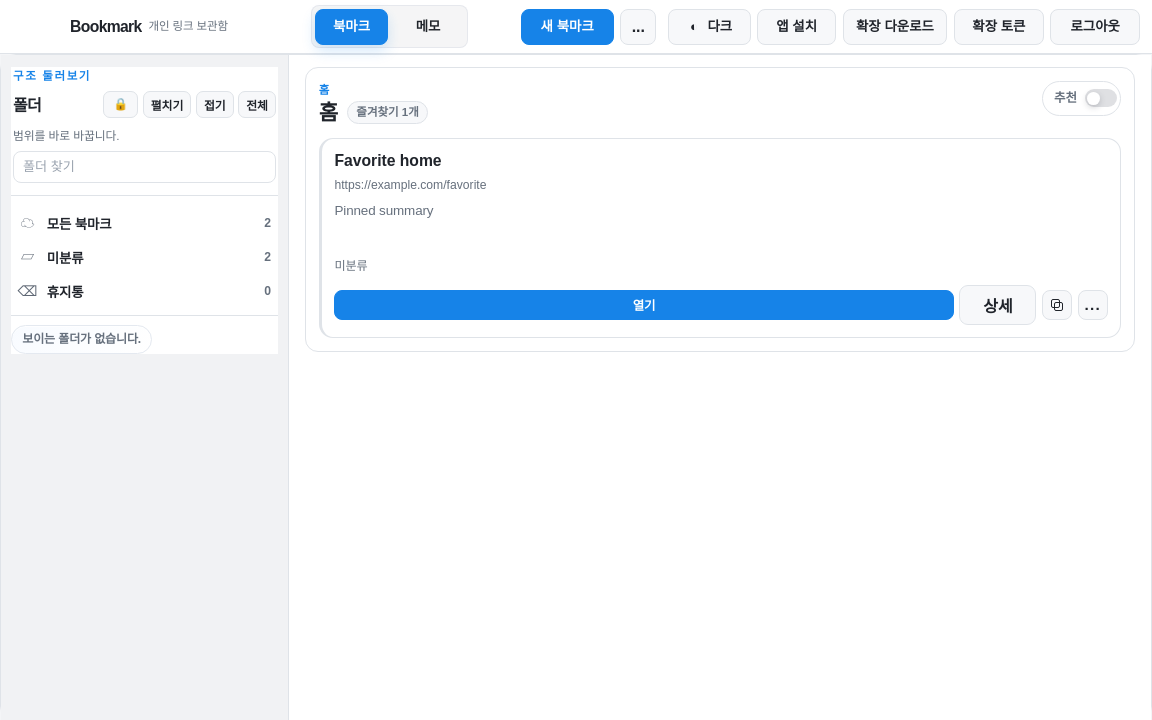
bookmark dashboard › opens on a home page with favorite bookmark cards and returns home from the brand
Expected: the heading "홈" is shown, [319,101,337,124]
Expected: the text "Favorite home" is shown, [334,152,441,169]
Click the button with aria-label "모든 북마크 보기".
click(79, 225)  # box [11,207,278,239]
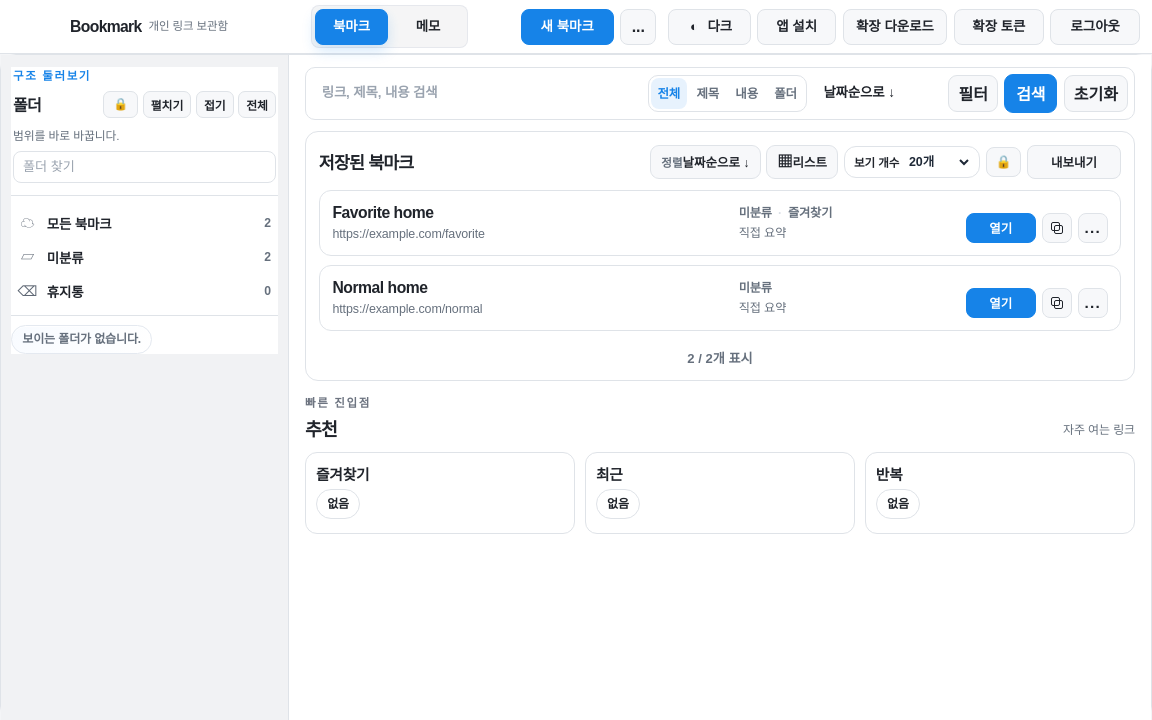
Now the element "home-page" is gone
Click the button with aria-label "홈으로 이동".
click(156, 27)  # box [12,19,300,34]
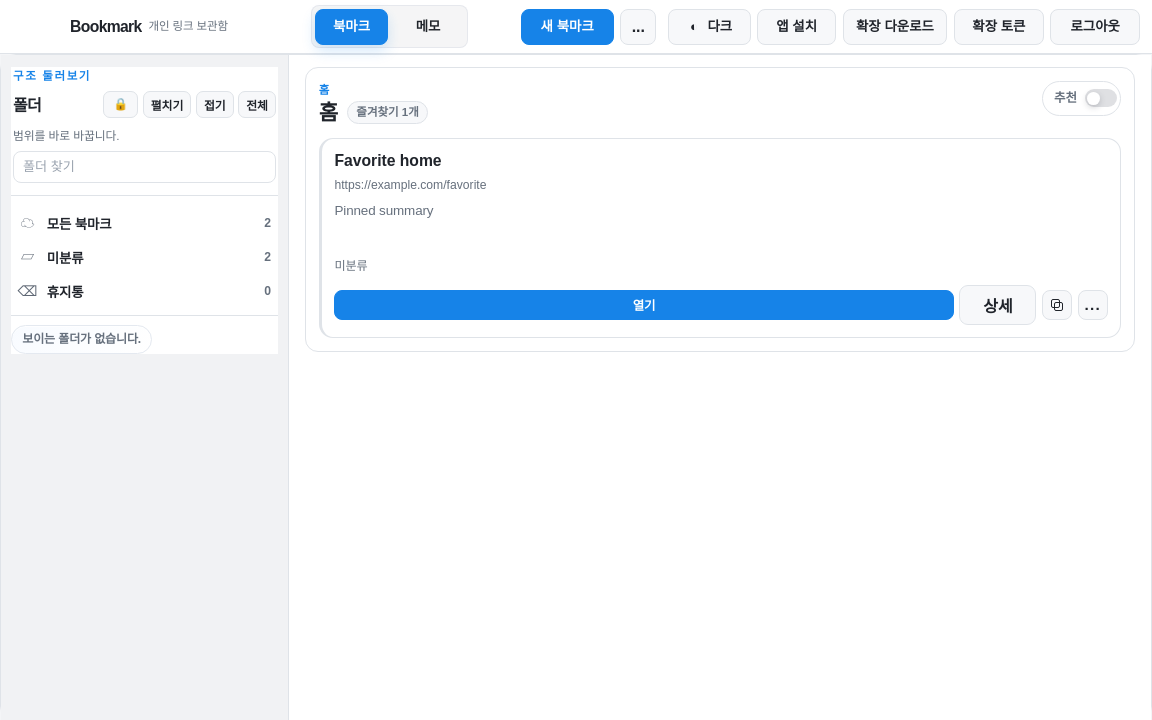
Now the element named "home-page" is shown, box [305,67,1135,352]
